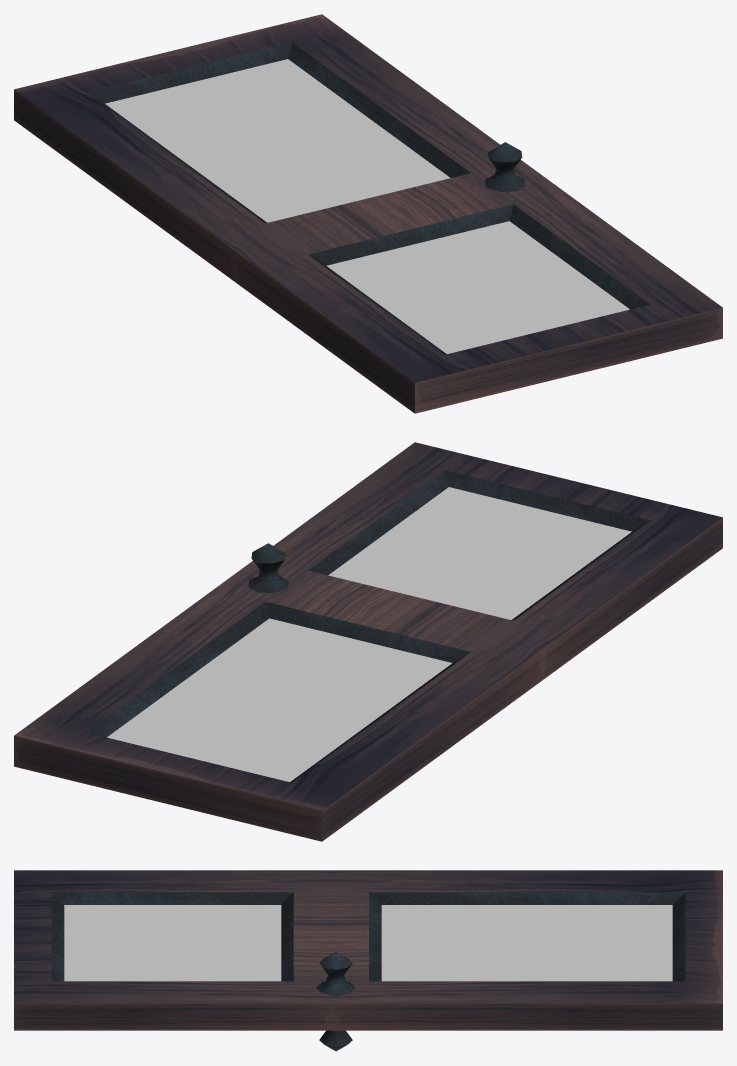
File: Door_F.fbx
3 renders of one model, top to bottom at view 1: azimuth 30°, elevation 25°; view 2: azimuth 150°, elevation 25°; view 3: azimuth 270°, elevation 25°, orthographic. The views are drawn at different scales.
Parts seen in each view (by area): view 1: Door_F; view 2: Door_F; view 3: Door_F.
Boxes of the visible parts, box(x1,y1,x2,y2) form: Door_F: box(14, 14, 722, 413); Door_F: box(14, 442, 722, 841); Door_F: box(14, 870, 722, 1051).
Bounding box in the file's own units: 18.3 × 6.42 × 41.26.
